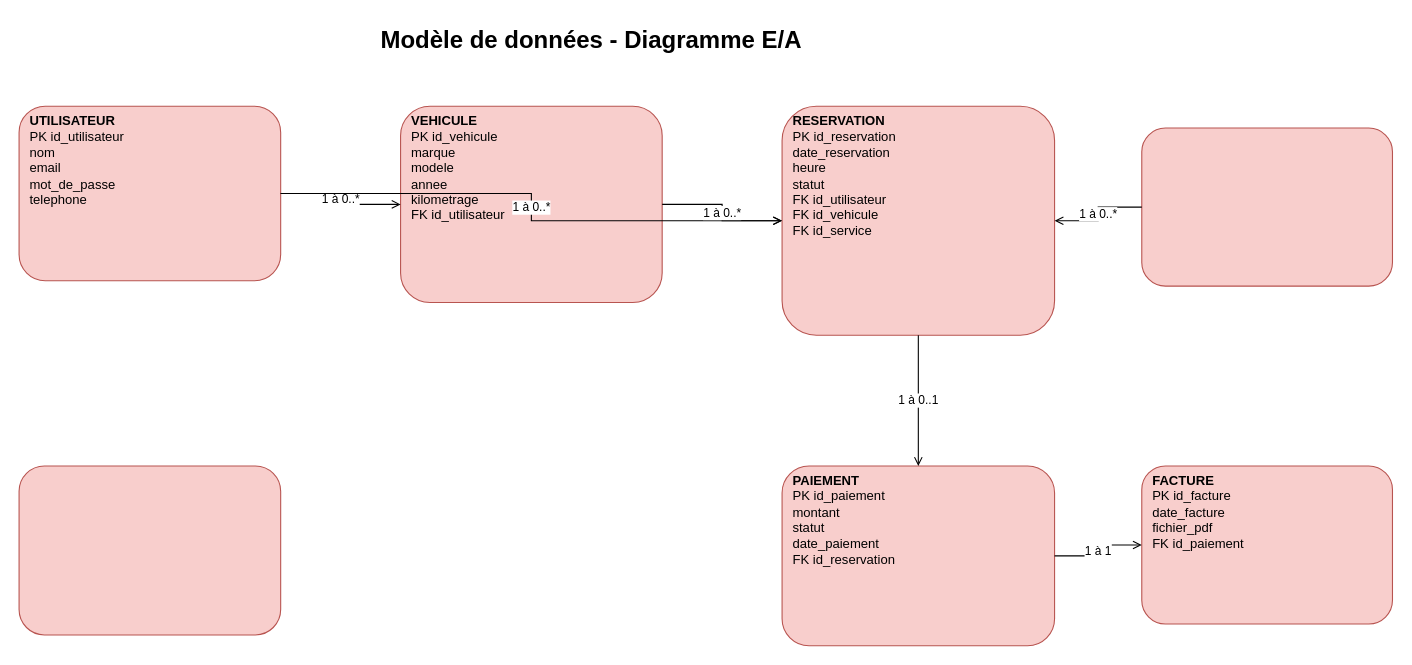
Image size: 1412x665. Some labels were removed from this diagram. Here are the shapes that lost their labels. From the top down, the centre of each, then its label:
(1266,206): SERVICE PK id_service nom_service description prix
(149,550): TUTORIEL PK id_tutoriel titre categorie difficulte lien_video
